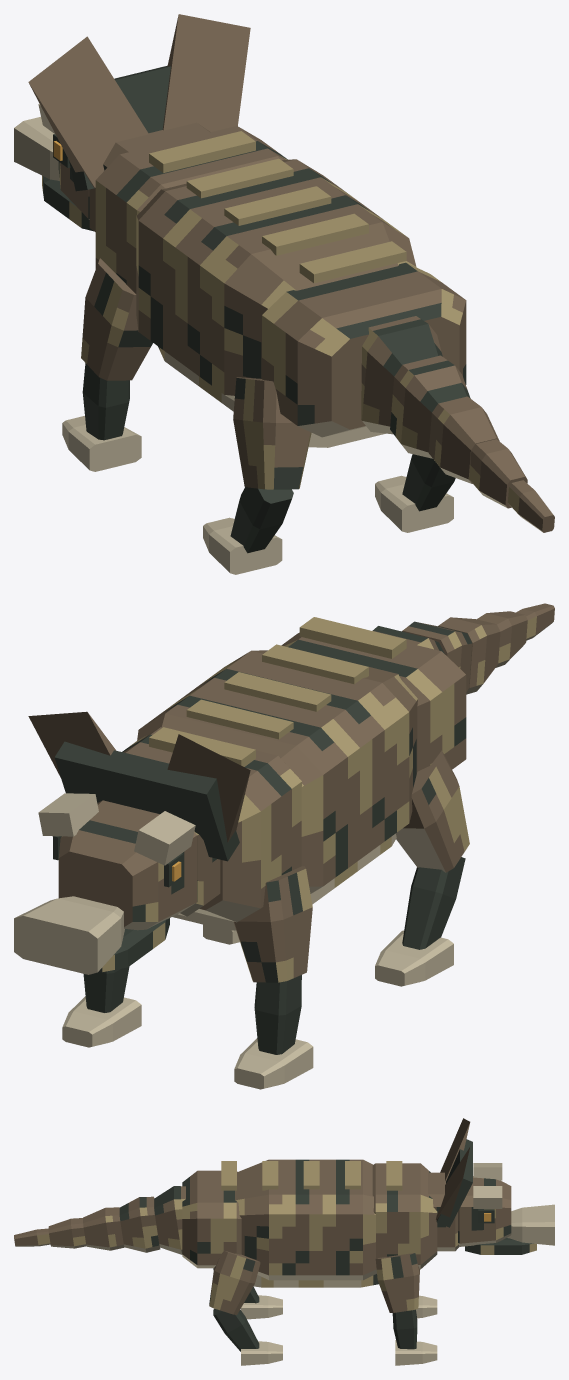
The model's file is Crestgrazer.gltf.
The picture shows the model from 3 angles, top to bottom: view 1: azimuth 30°, elevation 25°; view 2: azimuth 150°, elevation 25°; view 3: azimuth 270°, elevation 25°; orthographic projection. The views are drawn at different scales.
Visible parts, largest first — view 1: Root, Head, Leg-11.22, Leg-1-1.02, Leg-1-1.02_Knee, Leg-11.22_Knee, Tail0, Tail1, Leg11.22_Knee, Tail2, Tail3, Neck (+1 smaller); view 2: Root, Head, Leg-1-1.02, Leg-11.22_Knee, Leg-1-1.02_Knee, Leg-11.22, Leg1-1.02_Knee, Tail2, Tail1, Tail3, Neck, Tail4 (+1 smaller); view 3: Root, Head, Leg11.22, Leg1-1.02, Leg11.22_Knee, Tail1, Tail0, Leg1-1.02_Knee, Tail2, Neck, Tail3, Leg-11.22_Knee (+2 smaller).
Boxes of the visible parts, left/top/right/bottom form: Root: left=95, top=126, right=466, bottom=447; Head: left=14, top=14, right=250, bottom=231; Leg-11.22: left=233, top=377, right=311, bottom=489; Leg-1-1.02: left=81, top=258, right=152, bottom=380; Leg-1-1.02_Knee: left=62, top=363, right=141, bottom=471; Leg-11.22_Knee: left=203, top=487, right=293, bottom=574; Tail0: left=361, top=316, right=442, bottom=434; Tail1: left=390, top=355, right=470, bottom=458; Leg11.22_Knee: left=375, top=454, right=455, bottom=532; Tail2: left=428, top=396, right=499, bottom=483; Tail3: left=469, top=439, right=527, bottom=508; Neck: left=89, top=122, right=210, bottom=231; Root: left=122, top=617, right=466, bottom=930; Head: left=14, top=711, right=250, bottom=974; Leg-1-1.02: left=233, top=866, right=312, bottom=982; Leg-11.22_Knee: left=375, top=857, right=465, bottom=986; Leg-1-1.02_Knee: left=234, top=975, right=313, bottom=1089; Leg-11.22: left=396, top=750, right=469, bottom=872; Leg1-1.02_Knee: left=62, top=966, right=141, bottom=1047; Tail2: left=438, top=617, right=500, bottom=694; Tail1: left=402, top=621, right=472, bottom=691; Tail3: left=477, top=611, right=527, bottom=667; Neck: left=178, top=833, right=220, bottom=916; Tail4: left=516, top=603, right=554, bottom=640; Root: left=182, top=1159, right=437, bottom=1287; Head: left=436, top=1118, right=554, bottom=1254; Leg11.22: left=209, top=1250, right=260, bottom=1314; Leg1-1.02: left=375, top=1253, right=419, bottom=1312; Leg11.22_Knee: left=213, top=1308, right=282, bottom=1365; Tail1: left=119, top=1196, right=160, bottom=1252; Tail0: left=154, top=1186, right=185, bottom=1254; Leg1-1.02_Knee: left=392, top=1309, right=437, bottom=1365; Tail2: left=83, top=1207, right=124, bottom=1250; Neck: left=428, top=1172, right=459, bottom=1251; Tail3: left=48, top=1218, right=86, bottom=1248; Leg-11.22_Knee: left=213, top=1268, right=282, bottom=1319.
Bounding box in the file's own units: 2.06 × 3.26 × 7.86.
Materials: 1 (1 with a texture image).
